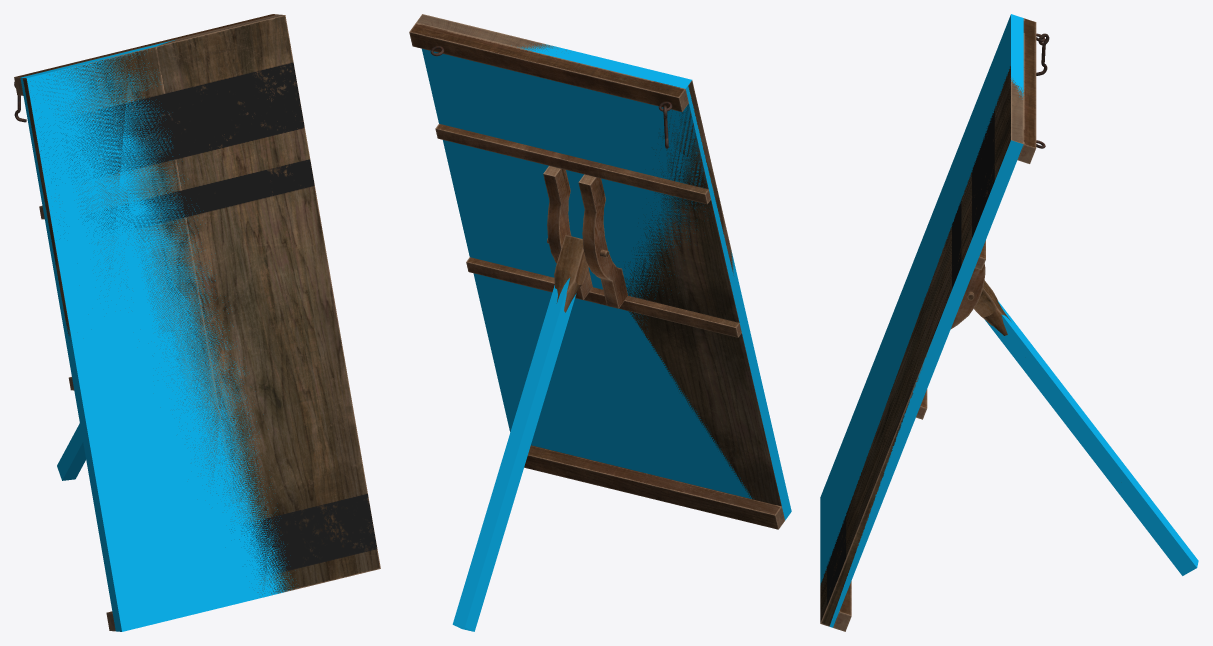
The model's file is JWC_Shield_Tate_A_01.fbx.
3 renders of one model, left to right at view 1: azimuth 30°, elevation 25°; view 2: azimuth 150°, elevation 25°; view 3: azimuth 270°, elevation 25°, orthographic. The views are drawn at different scales.
Parts seen in each view (by area): view 1: JWC_Shield_Tate_A_01, C_JWC_Shield_Tate_A_01, C_JWC_Shield_Tate_A_01_001; view 2: C_JWC_Shield_Tate_A_01, JWC_Shield_Tate_A_01, C_JWC_Shield_Tate_A_01_001; view 3: C_JWC_Shield_Tate_A_01, JWC_Shield_Tate_A_01, C_JWC_Shield_Tate_A_01_001.
Part boxes in pixels (left/top/right/bottom): JWC_Shield_Tate_A_01: left=14, top=14, right=380, bottom=631; C_JWC_Shield_Tate_A_01: left=20, top=39, right=293, bottom=631; C_JWC_Shield_Tate_A_01_001: left=57, top=423, right=85, bottom=480; C_JWC_Shield_Tate_A_01: left=422, top=44, right=791, bottom=520; JWC_Shield_Tate_A_01: left=409, top=14, right=784, bottom=529; C_JWC_Shield_Tate_A_01_001: left=452, top=278, right=576, bottom=631; C_JWC_Shield_Tate_A_01: left=820, top=14, right=1023, bottom=627; JWC_Shield_Tate_A_01: left=820, top=18, right=1049, bottom=631; C_JWC_Shield_Tate_A_01_001: left=985, top=300, right=1198, bottom=575.
Size of the model in its own units: 0.7905 by 1.45 by 1.
